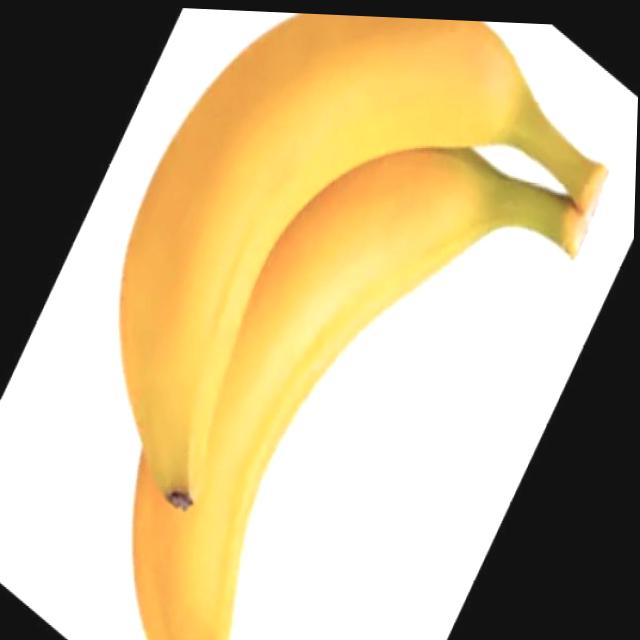Banana: (113, 5, 614, 640)
